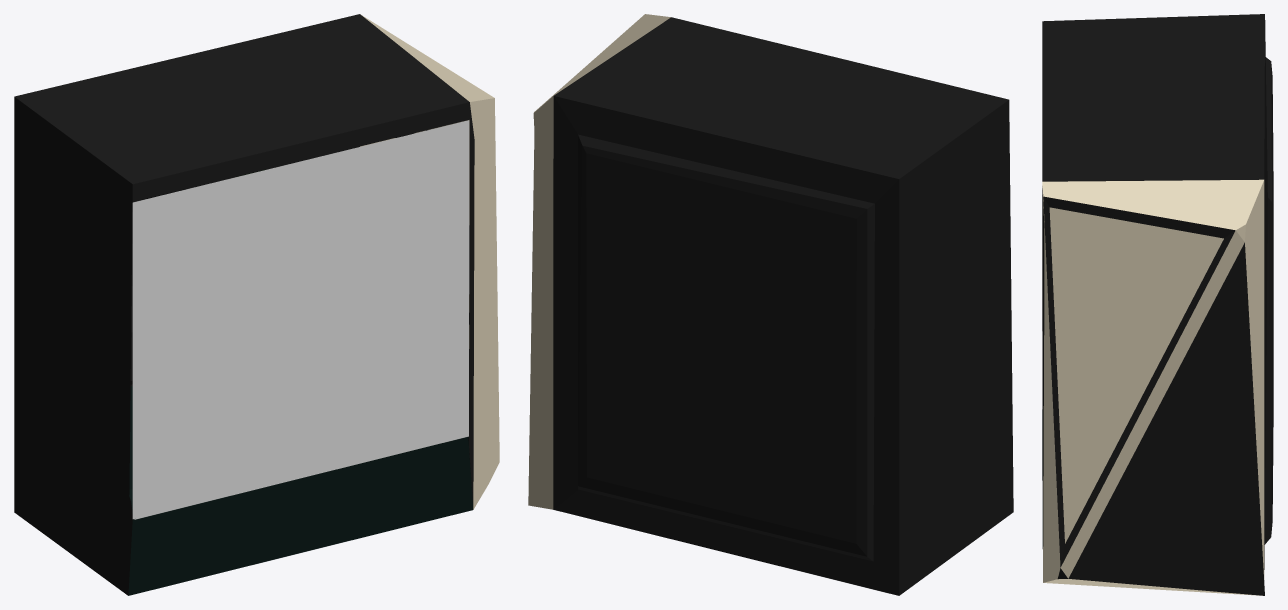
The picture shows the model from 3 angles, left to right: view 1: azimuth 30°, elevation 25°; view 2: azimuth 150°, elevation 25°; view 3: azimuth 270°, elevation 25°; orthographic projection. The views are drawn at different scales.
Visible parts, largest first — view 1: Cubo.003; view 2: Cubo.003; view 3: Cubo.003.
Part boxes in pixels (<box>): Cubo.003: <box>14,14,499,595</box>; Cubo.003: <box>528,14,1013,595</box>; Cubo.003: <box>1042,14,1273,595</box>.
Size of the model in its own units: 592 by 617 by 319.
